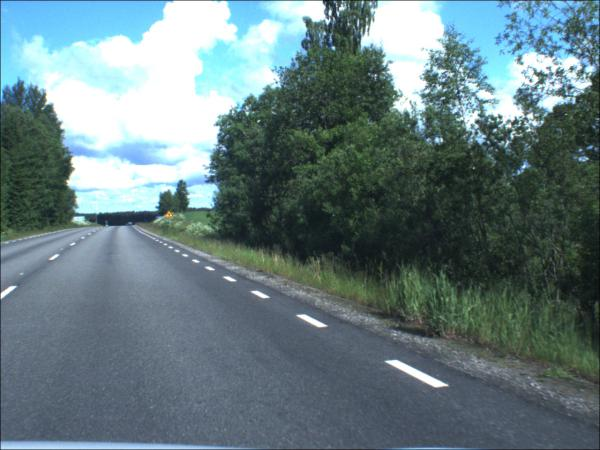WARNING: (168, 212, 175, 219)
